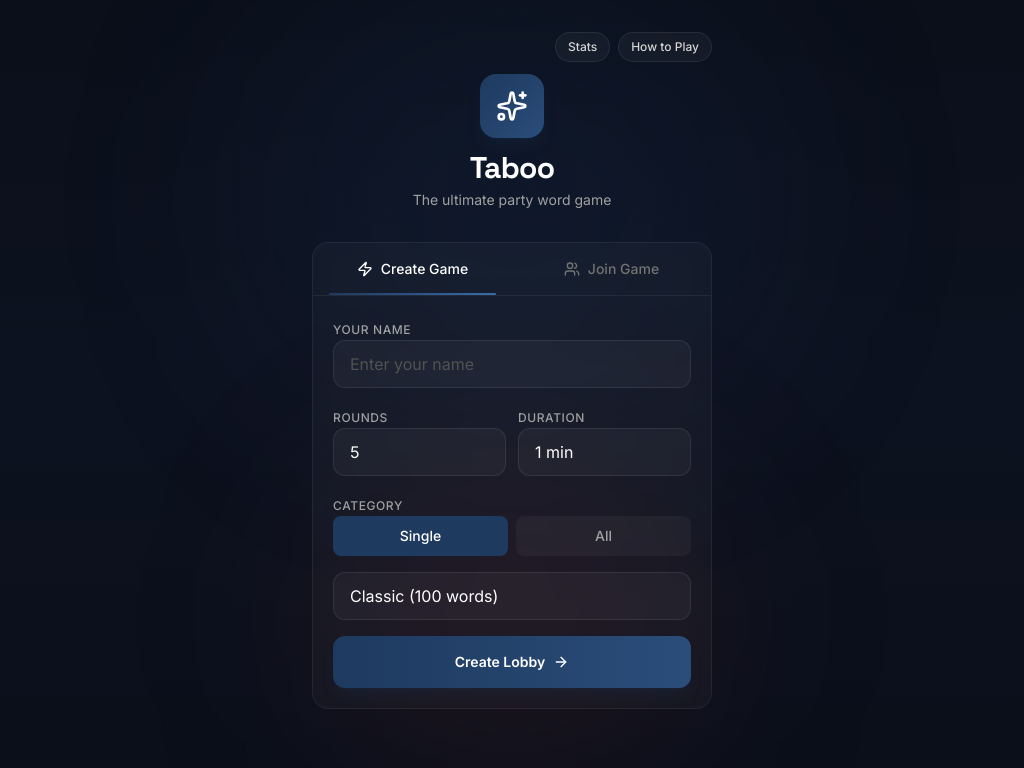
App routed lobby flow › sanitizes join code input to uppercase alphanumeric and max length 4
This screenshot has width=1024, height=768.
Click the button "Join Game" at [612, 269], box [512, 243, 711, 295]
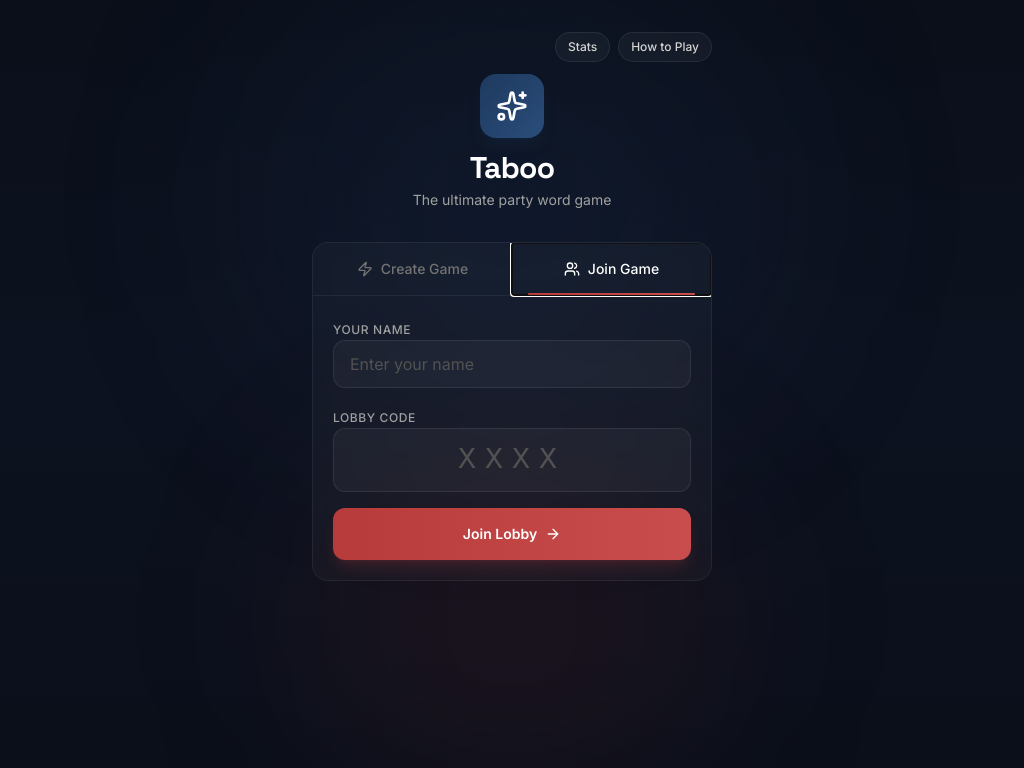
expect the field labelled "Lobby Code" is shown: met
Type "a!b1c2" into the field labelled "Lobby Code" at [512, 460], box [333, 428, 691, 492]
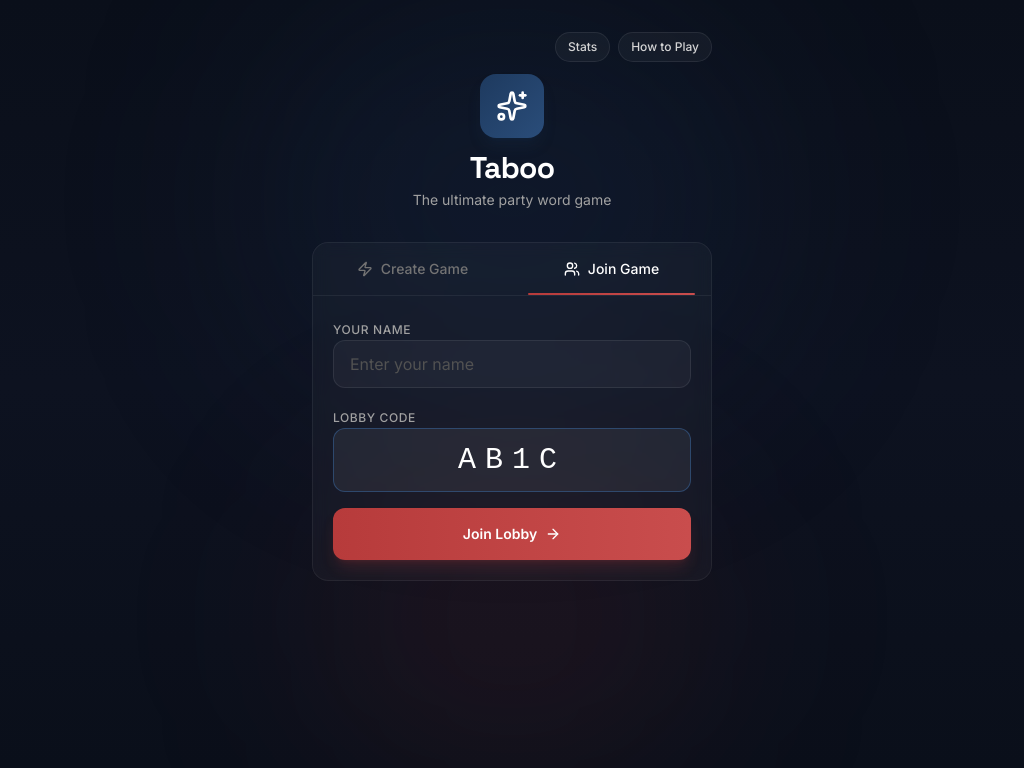
expect the field labelled "Lobby Code" holds "AB1C": met, box [333, 428, 691, 492]
